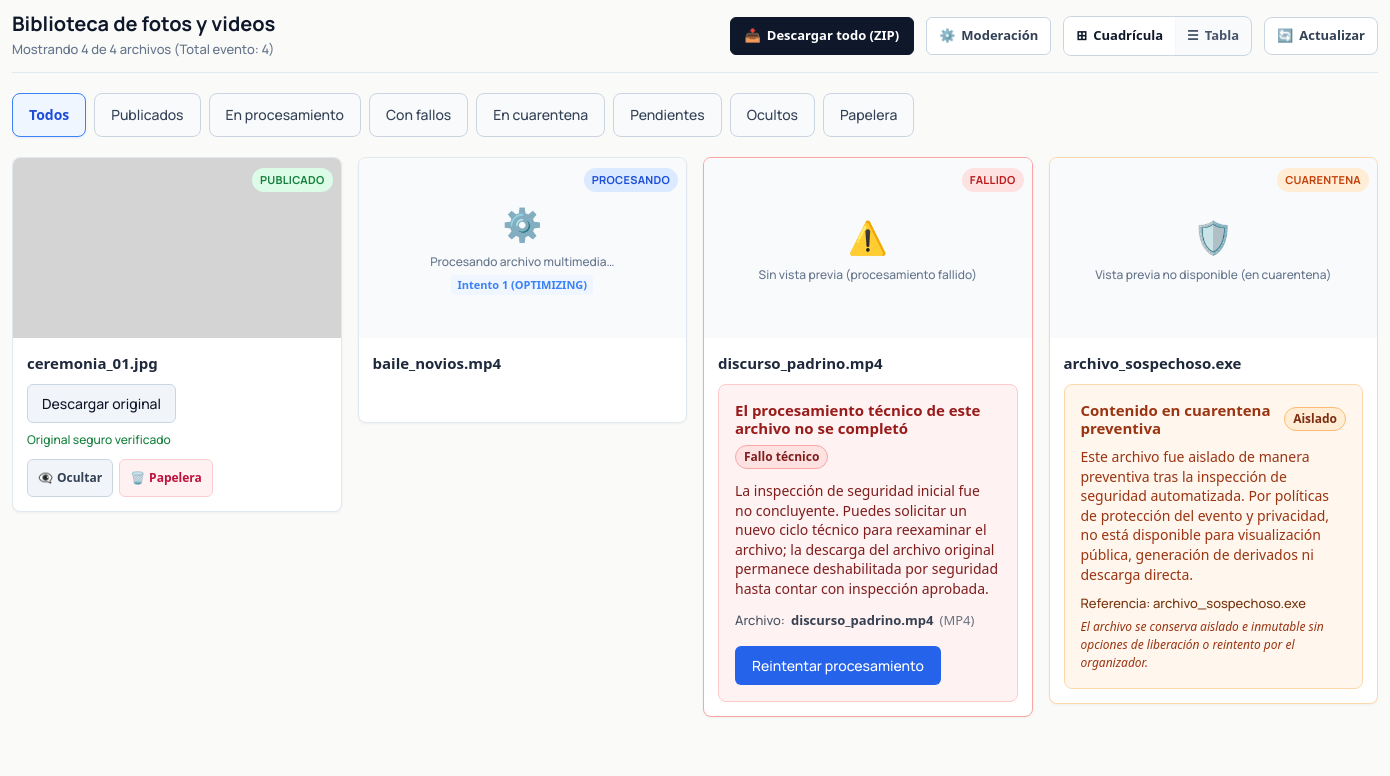
it: OrganizerMediaLibraryComponent & Media Integration (EL-TK-100) › EL-TK-111 Moderation and Trash Integration › Escenario 4: Conmuta panel de moderación y actualiza modo entre AUTO_PUBLISH y ORGANIZER_REVIEW
// Click toggle
Click the button with class "btn-toggle-settings".
click(989, 36)  # box [926,17,1051,55]
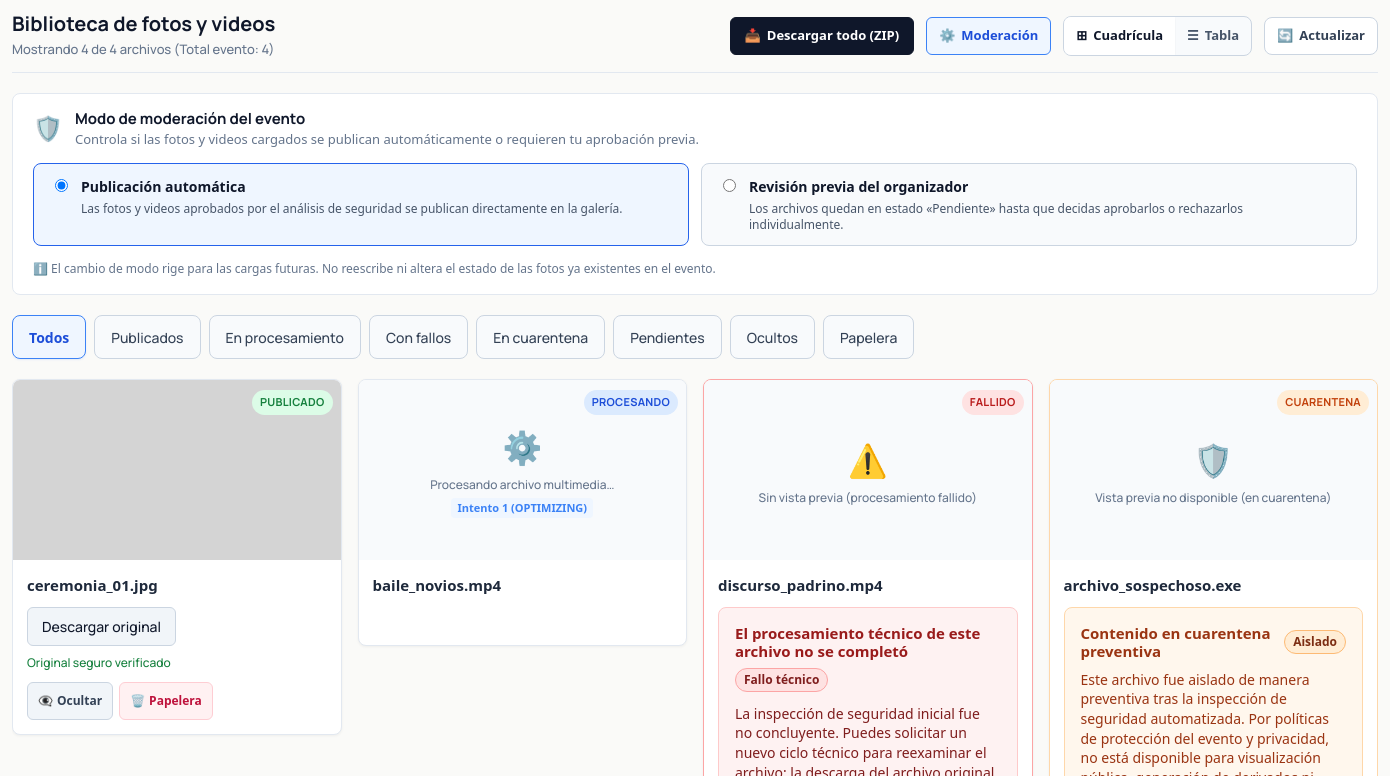
Check: the element that starts with "Modo de moderación del evento" is shown, box [12,92,1378,295]
// Change to ORGANIZER_REVIEW
Click the 2nd radio button.
click(730, 186)  # box [723,179,736,192]
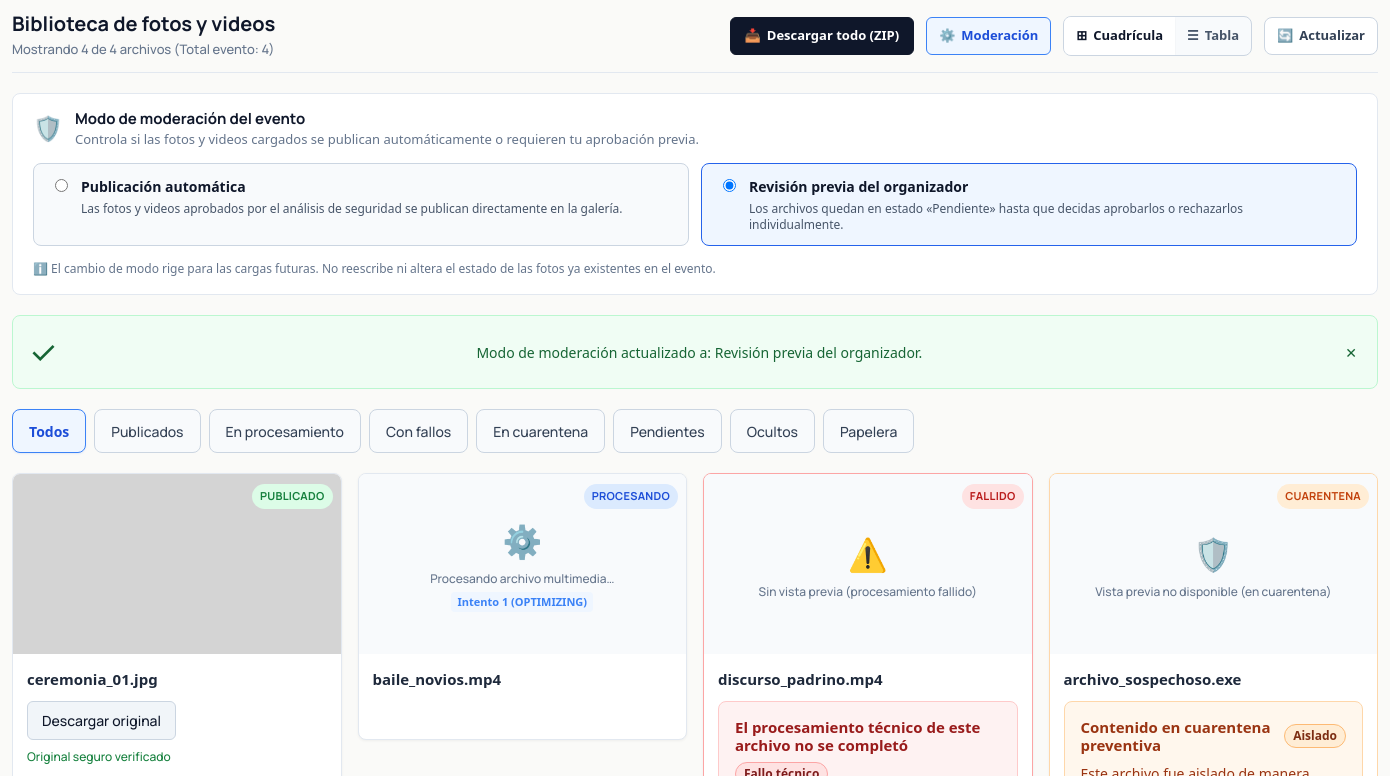
Check: the message with class "alert-success" shows "Modo de moderación actualizado a: Revisión previa del organizador.", box [476,343,922,362]
